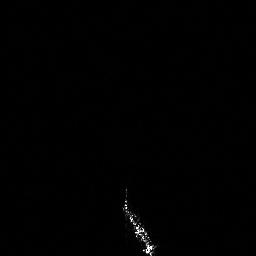ship: (119, 186, 161, 256)
